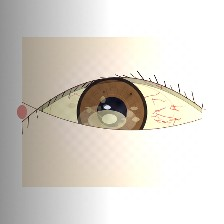corneal_ulcer: (76, 95, 138, 145)
